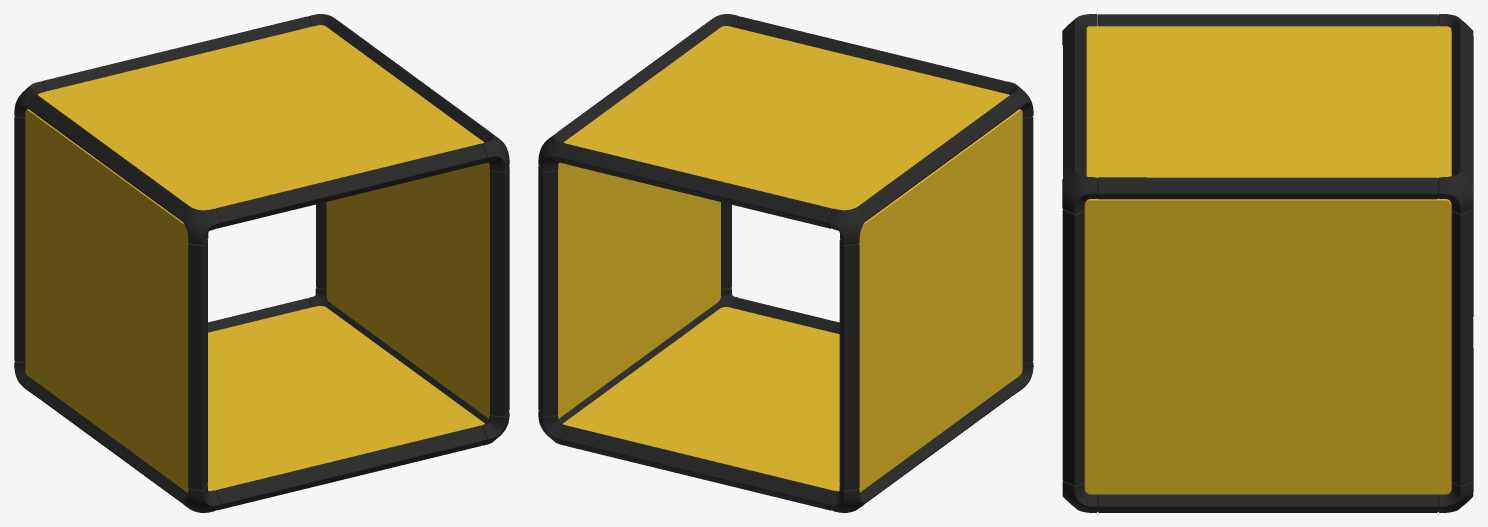
3 views of the same model, side by side, from view 1: azimuth 30°, elevation 25°; view 2: azimuth 150°, elevation 25°; view 3: azimuth 270°, elevation 25° (orthographic). The views are drawn at different scales.
Parts seen in each view (by area): view 1: 374x374x329; view 2: 374x374x329; view 3: 374x374x329.
Part boxes in pixels (left/top/right/bottom): 374x374x329: left=14, top=14, right=509, bottom=512; 374x374x329: left=538, top=14, right=1033, bottom=512; 374x374x329: left=1062, top=14, right=1473, bottom=512.
Size of the model in its own units: 0.4517 by 0.4067 by 0.4513.
